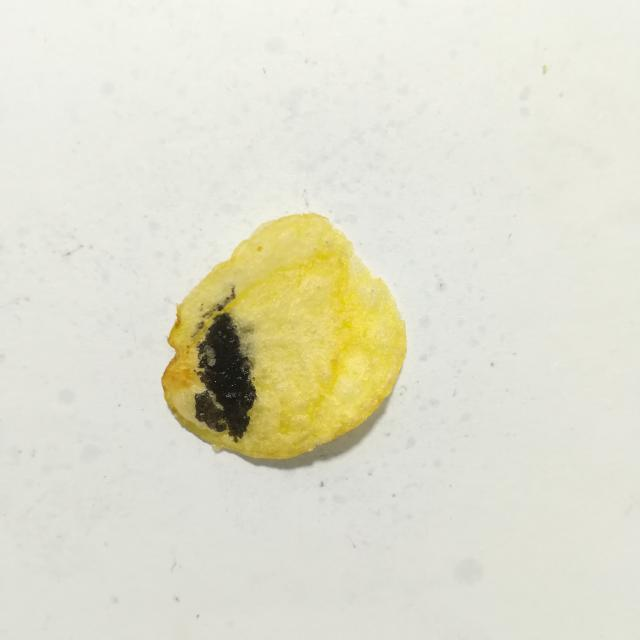chip: (162, 214, 406, 459)
damaged: (195, 313, 256, 441)
semi-damaged: (229, 311, 258, 385), (199, 286, 236, 320), (190, 320, 205, 338)
